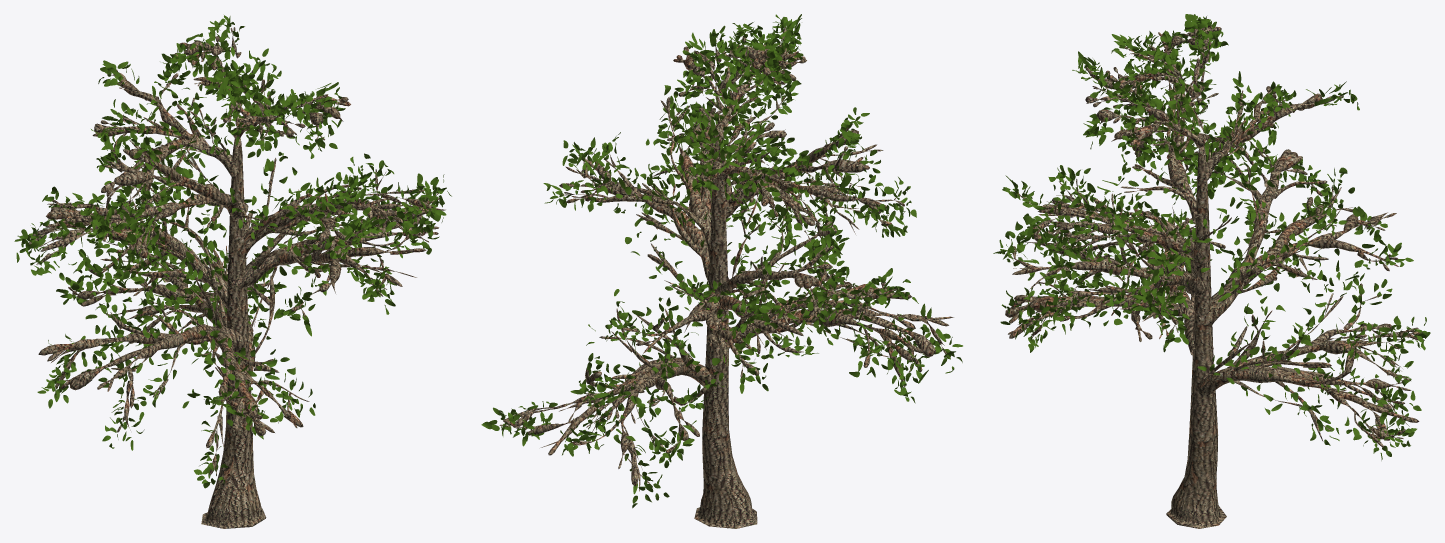
The model's file is tree.glb.
3 views of the same model, side by side, from view 1: azimuth 30°, elevation 25°; view 2: azimuth 150°, elevation 25°; view 3: azimuth 270°, elevation 25° (orthographic).
Visible parts, largest first — view 1: MawaisTree; view 2: MawaisTree; view 3: MawaisTree.
Part boxes in pixels (x1=…): MawaisTree: x1=14, y1=15, x2=451, y2=528; MawaisTree: x1=481, y1=14, x2=962, y2=528; MawaisTree: x1=993, y1=14, x2=1430, y2=528.
Size of the model in its own units: 4.82 by 6 by 4.85.
Materials: 2 (1 with a texture image).
